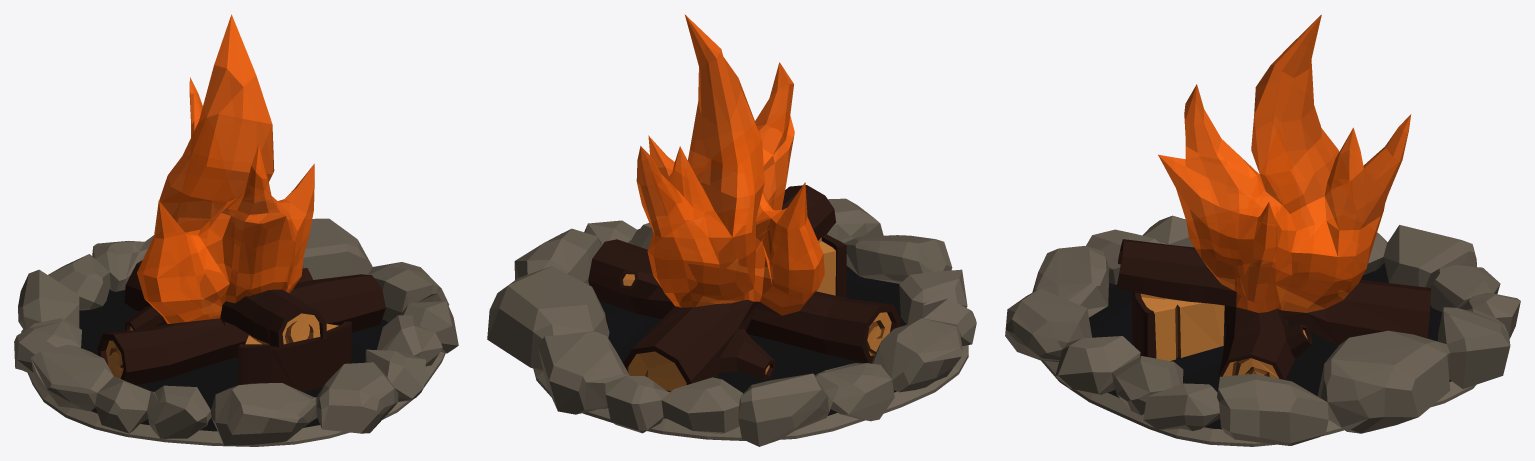
Rendered from printable_fire_pit.obj.
3 renders of one model, left to right at view 1: azimuth 30°, elevation 25°; view 2: azimuth 150°, elevation 25°; view 3: azimuth 270°, elevation 25°, orthographic. The views are drawn at different scales.
Parts seen in each view (by area): view 1: plate_0, Campfire_0, Campfire_1, plate_1, Campfire_2; view 2: plate_0, Campfire_0, Campfire_1, plate_1, Campfire_2; view 3: plate_0, Campfire_0, Campfire_1, plate_1, Campfire_2, Campfire_3.
Boxes of the visible parts, x1,y1,x2,y2 form: plate_0: (14, 218, 458, 446); Campfire_0: (137, 14, 314, 323); Campfire_1: (97, 260, 385, 391); plate_1: (79, 289, 388, 431); Campfire_2: (106, 298, 338, 378); plate_0: (487, 198, 976, 446); Campfire_0: (636, 15, 824, 315); Campfire_1: (588, 185, 900, 384); plate_1: (599, 266, 906, 418); Campfire_2: (623, 229, 891, 391); plate_0: (1005, 215, 1520, 446); Campfire_0: (1158, 14, 1411, 312); Campfire_1: (1116, 239, 1430, 379); plate_1: (1089, 263, 1451, 429); Campfire_2: (1140, 259, 1347, 378); Campfire_3: (1175, 260, 1269, 376).
Bounding box in the file's own units: 3.1 × 2.4 × 3.24.
